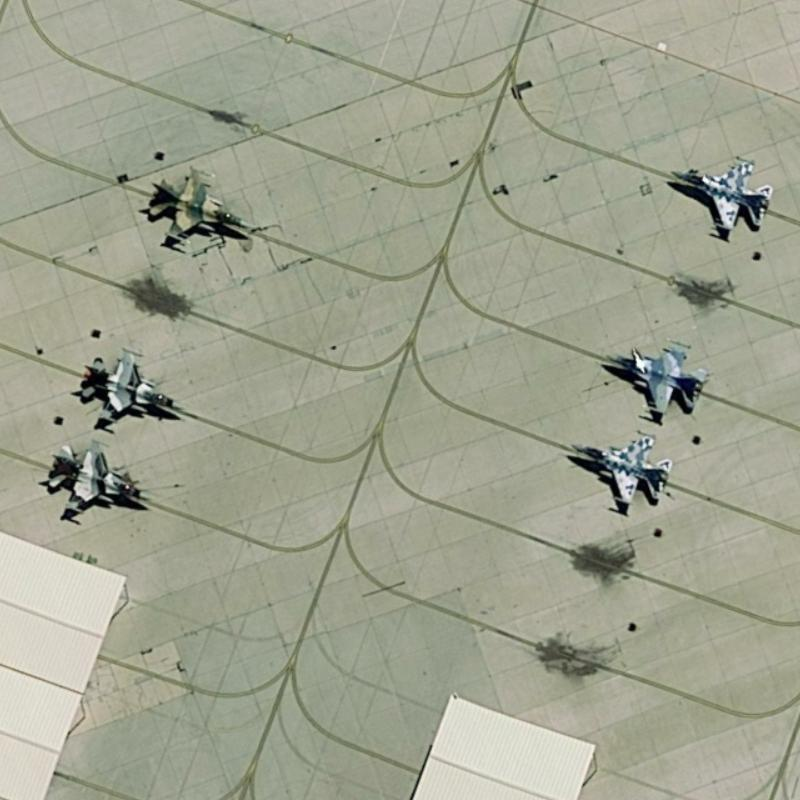A5: (655, 144, 780, 247), (70, 341, 205, 433), (38, 431, 168, 526), (132, 154, 256, 251), (597, 331, 714, 421), (561, 427, 678, 513)
